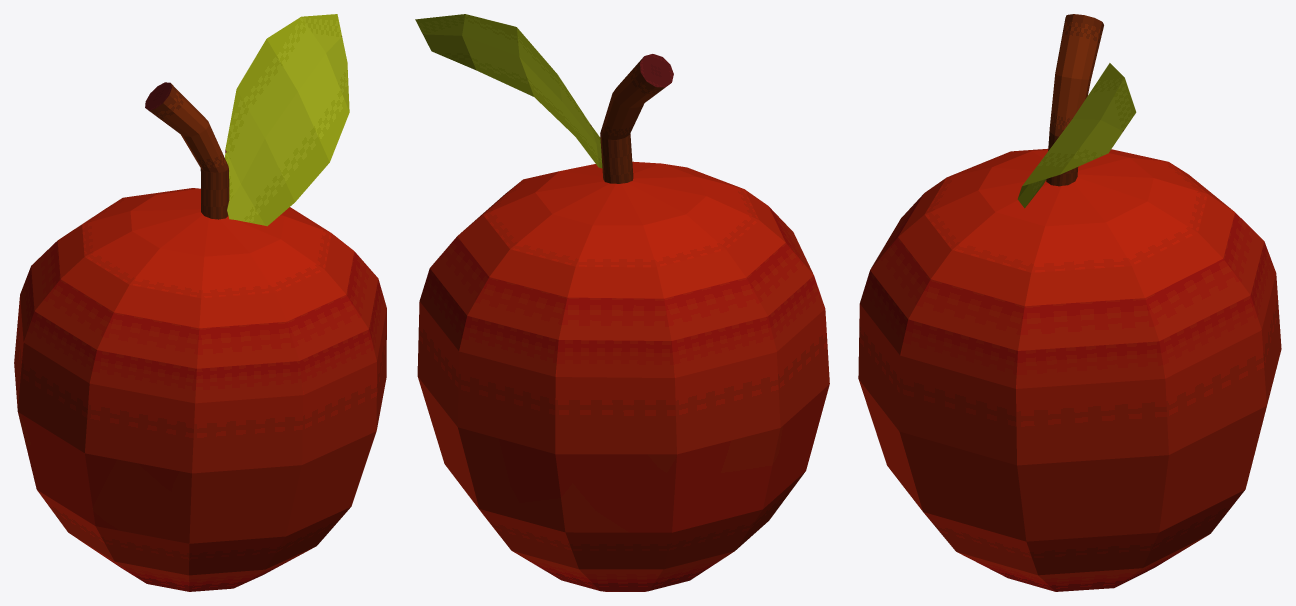
File: Pomme.glb
3 views of the same model, side by side, from view 1: azimuth 30°, elevation 25°; view 2: azimuth 150°, elevation 25°; view 3: azimuth 270°, elevation 25° (orthographic). The views are drawn at different scales.
Parts seen in each view (by area): view 1: Sphere; view 2: Sphere; view 3: Sphere.
Boxes of the visible parts, x1,y1,x2,y2 form: Sphere: [14, 14, 386, 591]; Sphere: [415, 14, 829, 591]; Sphere: [858, 14, 1281, 591].
Bounding box in the file's own units: 0.6592 × 0.9671 × 0.661.
2 materials, 2 textured.
